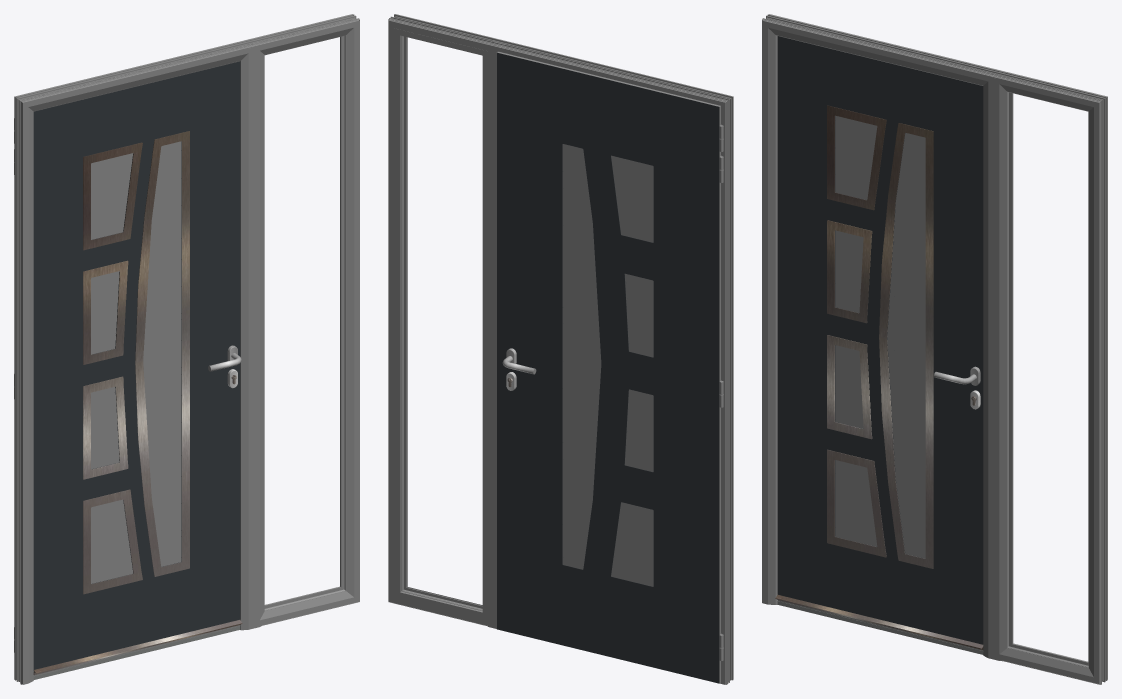
3 views of the same model, side by side, from view 1: azimuth 30°, elevation 25°; view 2: azimuth 150°, elevation 25°; view 3: azimuth 330°, elevation 25° (orthographic).
Parts seen in each view (by area): view 1: bloco_104, Rectangle002, Vidro Porta, alunox_062, Line004, Object, Object001, Line005, Rectangle005, Rectangle003; view 2: bloco_104, Vidro Porta, Rectangle002, Rectangle003, Line004, Object001, Rectangle004, Object; view 3: bloco_104, Rectangle002, Vidro Porta, alunox_062, Line004, Object001, Object, Line005, Rectangle003, Rectangle005.
Boxes of the visible parts, x1,y1,x2,y2 form: bloco_104: (33, 61, 240, 671); Rectangle002: (14, 14, 359, 684); Vidro Porta: (91, 141, 181, 583); alunox_062: (83, 131, 189, 594); Line004: (240, 46, 264, 630); Object: (33, 35, 346, 680); Object001: (264, 36, 344, 608); Line005: (33, 620, 242, 674); Rectangle005: (33, 625, 240, 679); Rectangle003: (264, 37, 340, 605); bloco_104: (497, 52, 719, 683); Vidro Porta: (562, 144, 653, 586); Rectangle002: (388, 14, 733, 684); Rectangle003: (394, 28, 487, 619); Line004: (488, 41, 504, 628); Object001: (401, 36, 482, 610); Rectangle004: (496, 51, 720, 683); Object: (404, 36, 482, 608); bloco_104: (777, 36, 983, 644); Rectangle002: (762, 14, 1107, 684); Vidro Porta: (835, 115, 925, 558); alunox_062: (827, 105, 933, 568); Line004: (983, 77, 1007, 661); Object001: (1007, 92, 1088, 665); Object: (776, 35, 1088, 667); Line005: (775, 595, 983, 649); Rectangle003: (1012, 93, 1087, 662); Rectangle005: (777, 600, 983, 654).
Bounding box in the file's own units: 1307 × 2150 × 192.
7 materials, 4 textured.
